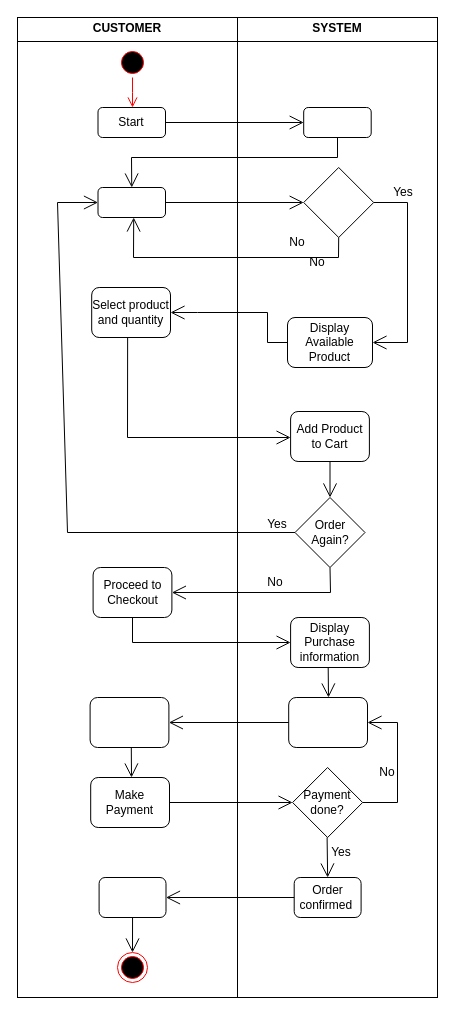
This 455x1015 diagram has some shape labels left out. Each missing label, with the box of its shape:
Product Availble: (303, 166, 374, 238)
search for product: (97, 186, 166, 218)
Select Payment Option: (89, 696, 169, 748)
Show interface: (303, 106, 371, 138)
Show Order Status: (98, 876, 166, 918)
Show Payment Option: (288, 696, 368, 748)
